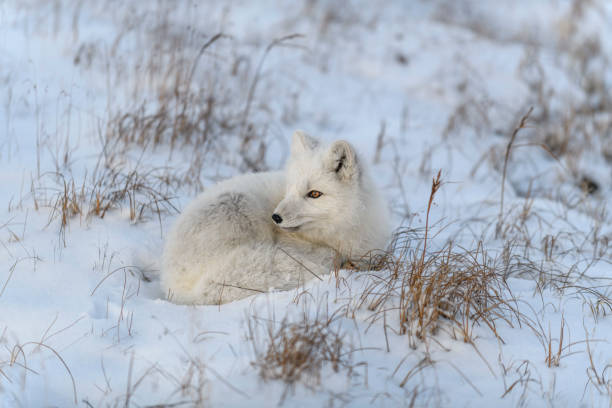arcticfox: (262, 154, 330, 240)
